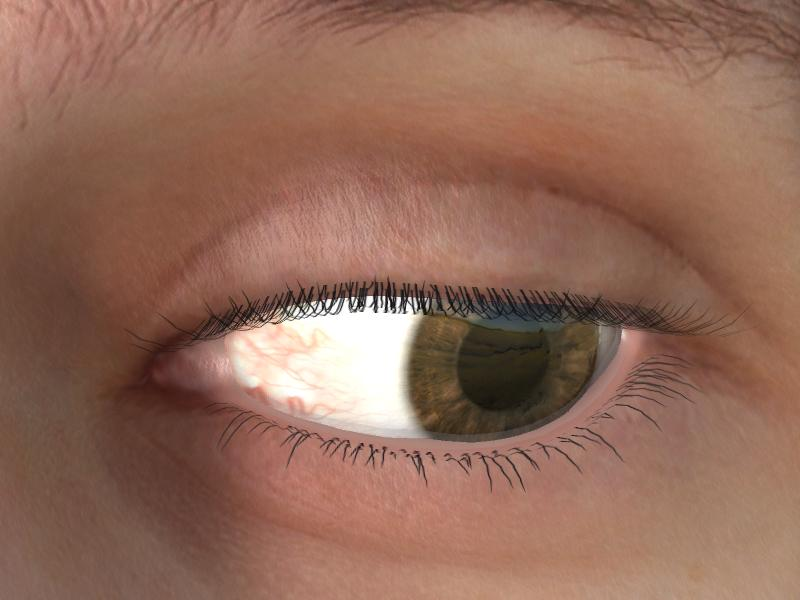eye: (409, 297, 594, 439)
